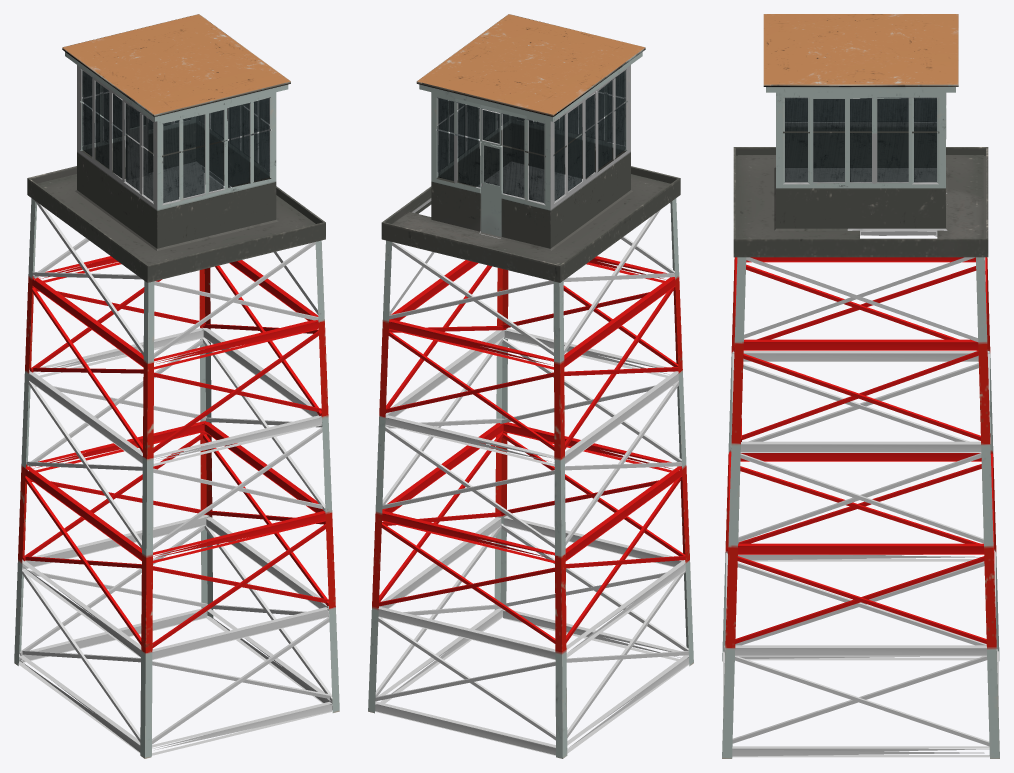
The model's file is StripTowerLOD0.glb.
3 views of the same model, side by side, from view 1: azimuth 30°, elevation 25°; view 2: azimuth 150°, elevation 25°; view 3: azimuth 270°, elevation 25° (orthographic). The views are drawn at different scales.
Visible parts, largest first — view 1: defaultMaterial.263; view 2: defaultMaterial.263; view 3: defaultMaterial.263.
Boxes of the visible parts, bbox=[...] form: defaultMaterial.263: bbox=[14, 14, 339, 758]; defaultMaterial.263: bbox=[368, 14, 693, 758]; defaultMaterial.263: bbox=[722, 14, 999, 758].
Size of the model in its own units: 11.34 by 34.85 by 13.24.
4 materials, 2 textured.
